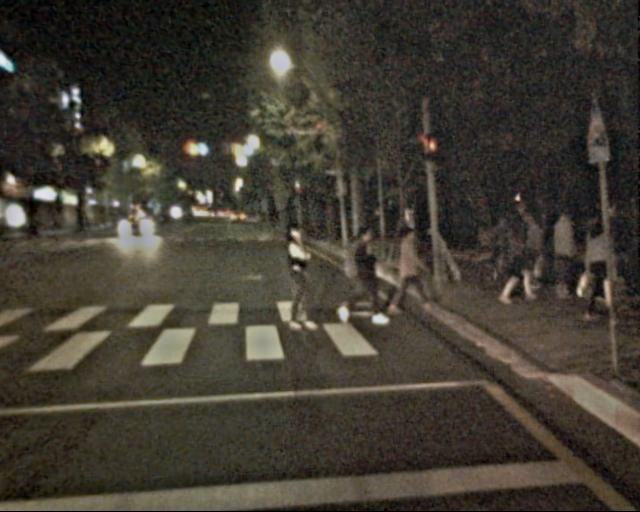person: (270, 222, 316, 335), (494, 205, 545, 303), (575, 217, 620, 326), (340, 226, 381, 326), (546, 205, 586, 302), (388, 225, 427, 320), (600, 203, 635, 289)
